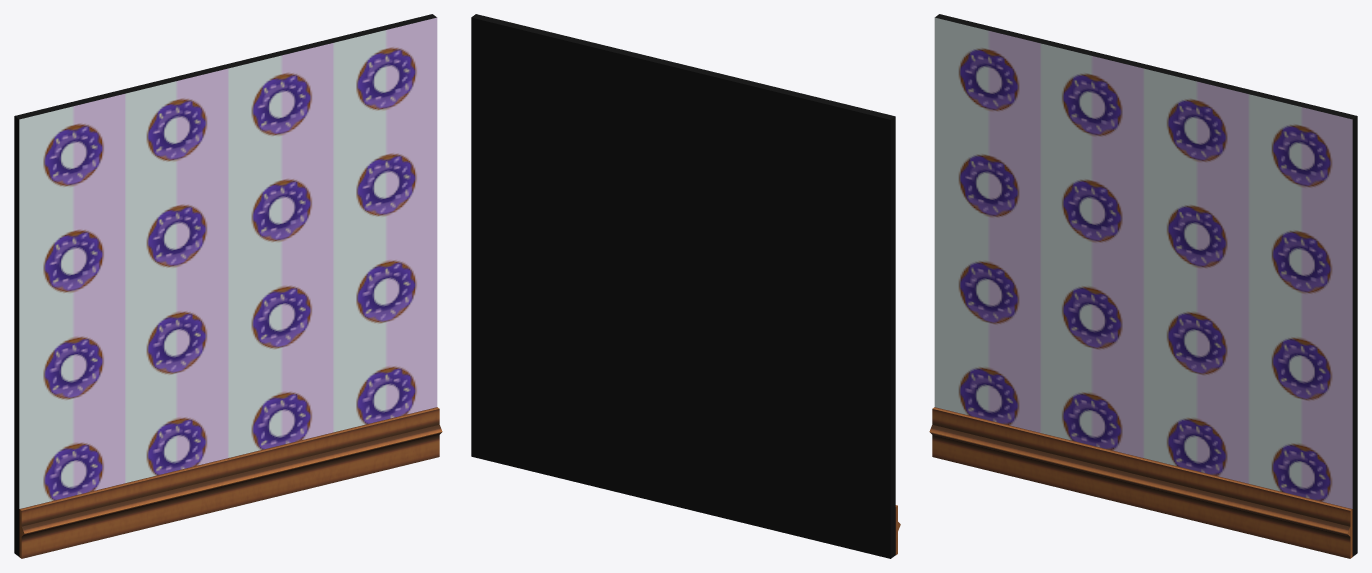
Rendered from Wall_A_02.FBX.
The picture shows the model from 3 angles, left to right: view 1: azimuth 30°, elevation 25°; view 2: azimuth 150°, elevation 25°; view 3: azimuth 330°, elevation 25°; orthographic projection.
Visible parts, largest first — view 1: Wall_A_01; view 2: Wall_A_01; view 3: Wall_A_01.
Part boxes in pixels (x1,y1,x2,y2): Wall_A_01: (14, 14, 442, 558); Wall_A_01: (471, 14, 900, 558); Wall_A_01: (929, 14, 1357, 558).
Size of the model in its own units: 500 by 500 by 20.82.
